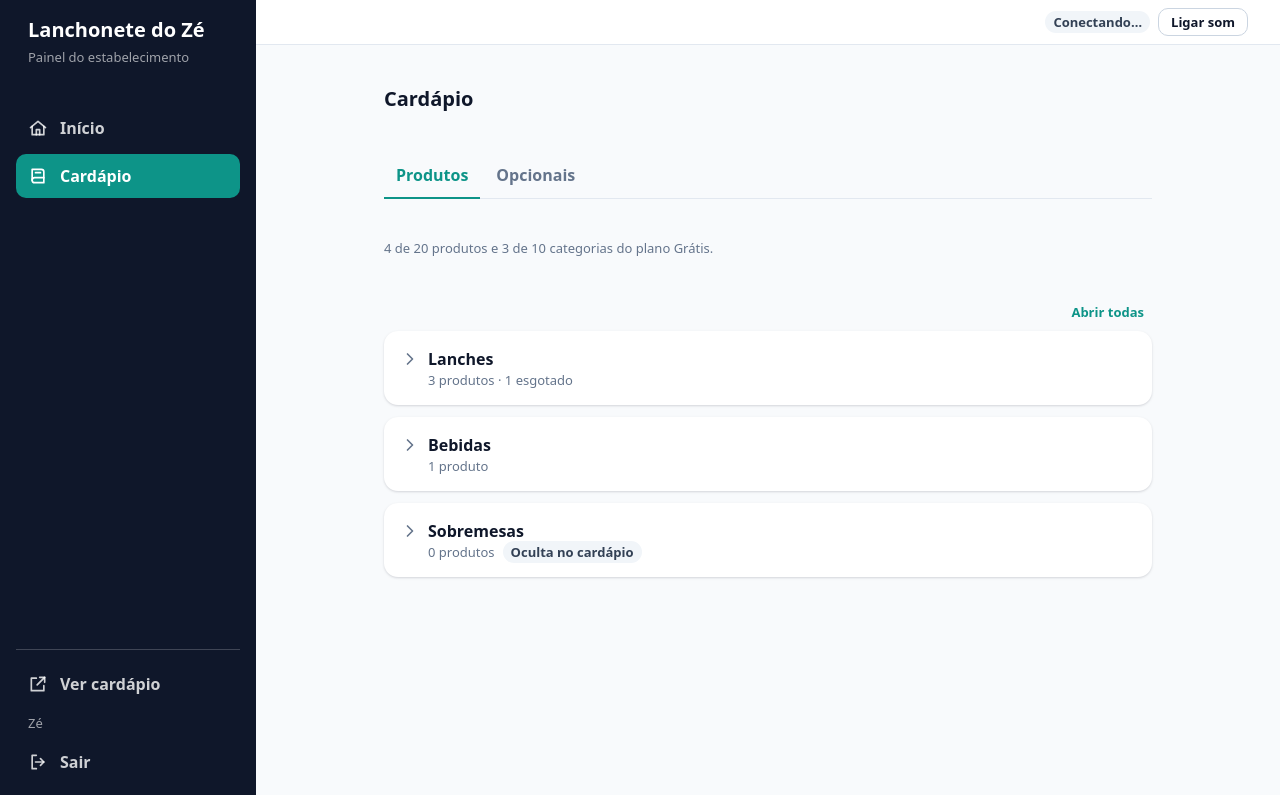
a lista do cardápio › quem altera o produto, sem o esgotado, muda a ordem e não tem a caixa
The image size is (1280, 795).
Step 1. Click the button with aria-label "Lanches," → (486, 368), box [396,343,577,393]
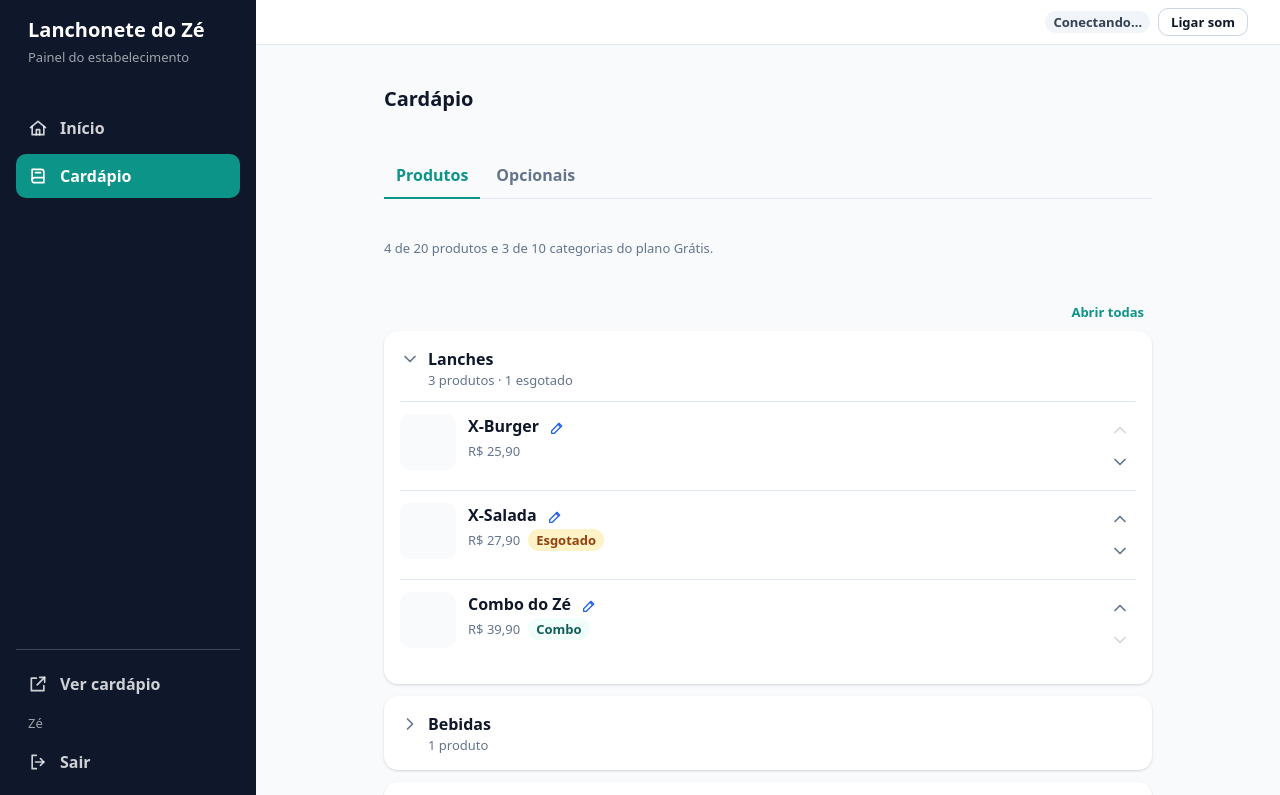
Expected: the button named "Descer X-Burger" is shown, [1104,446,1136,478]
